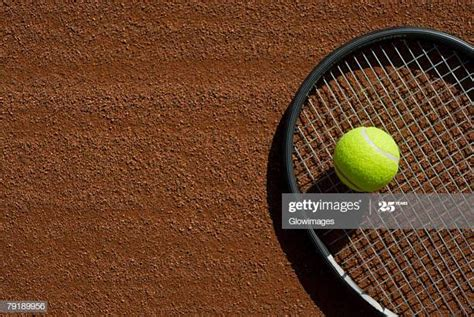tennis_ball: (333, 126, 400, 193)
